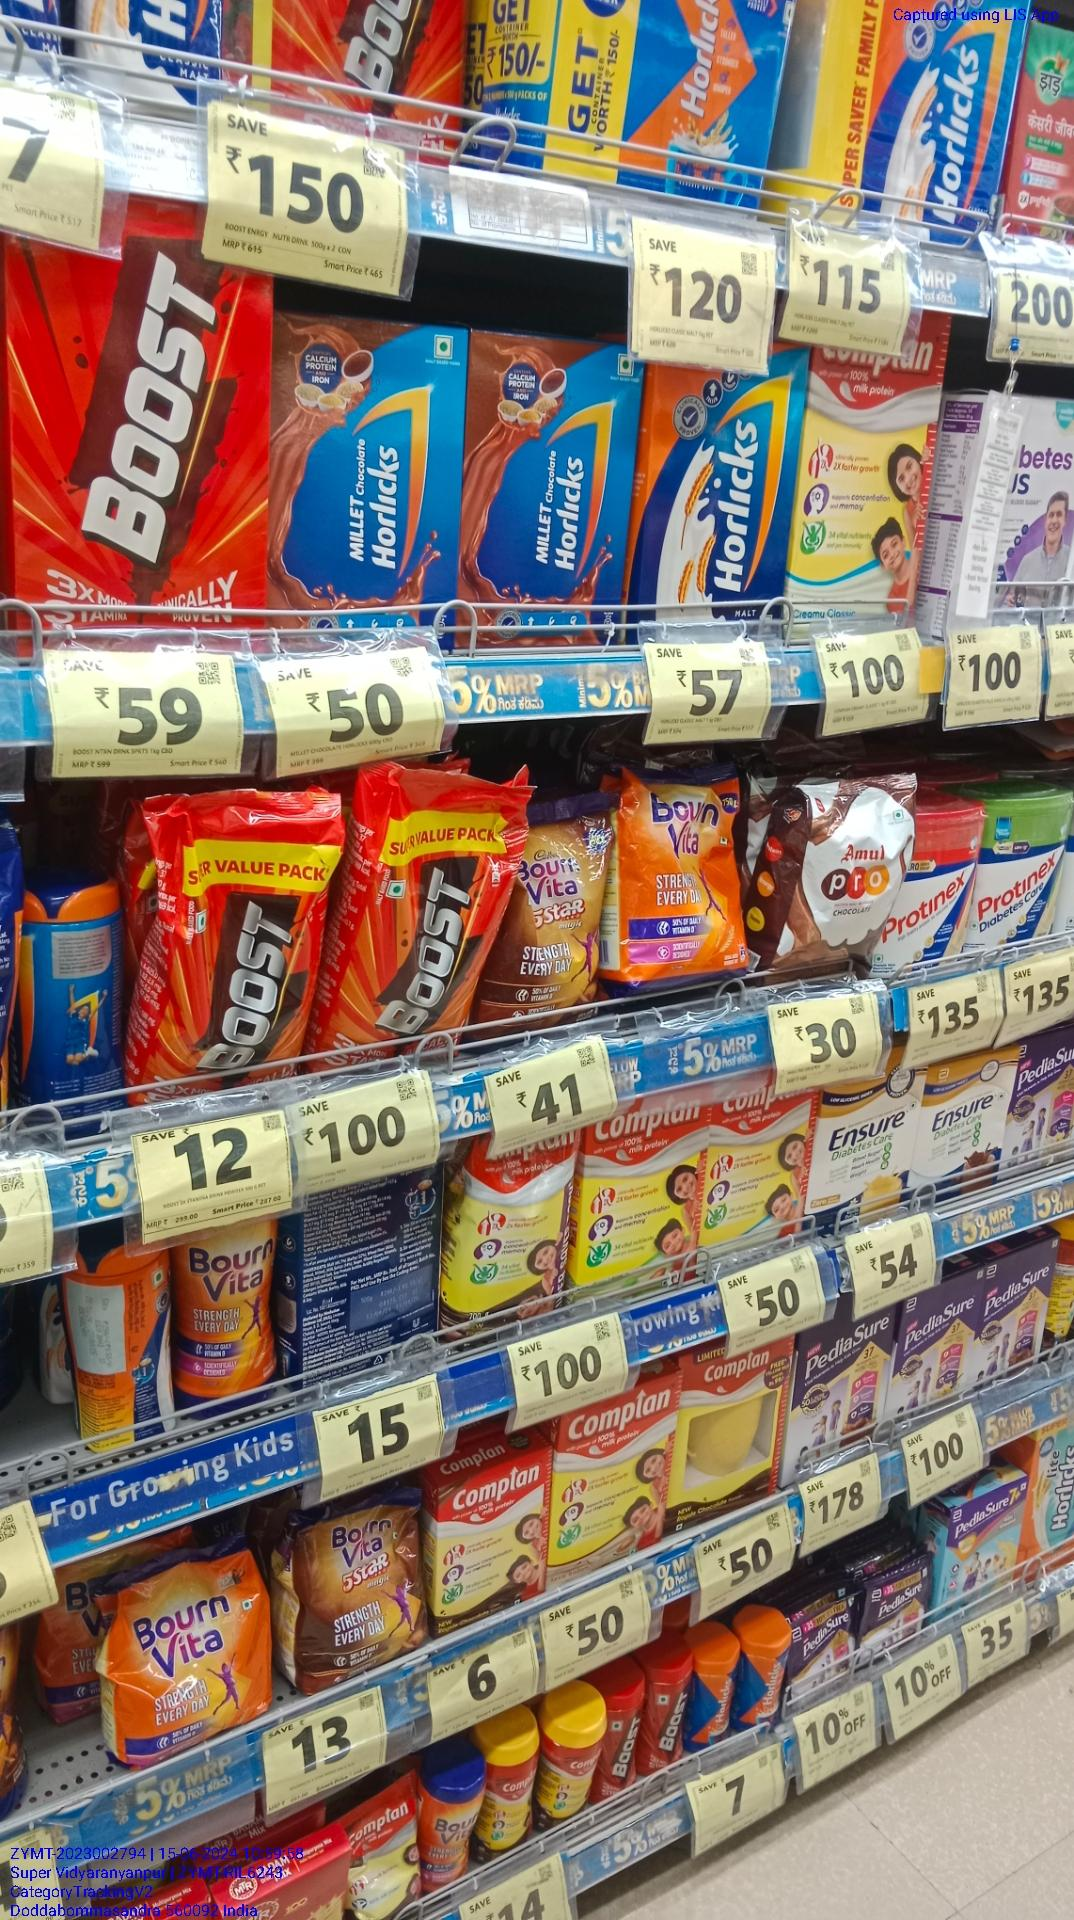BOURN_VITA_200_G_JAR: (424, 1770, 483, 1887)
BOURN_VITA_500_G_JAR: (174, 1234, 277, 1415)
BOURN_VITA_500_G_POUCH: (107, 1571, 273, 1738)
BOURN_VITA_750_G_POUCH: (614, 769, 745, 985)
BOURN_VITA_FIVE_STAR_MAGIC_500_G_POUCH: (286, 1503, 420, 1663)
BOURN_VITA_FIVE_STAR_MAGIC_750_G_POUCH: (487, 800, 606, 1034)
COMPLAN_CHOCOLATE_200_GMS_JAR: (544, 1705, 600, 1825), (487, 1735, 537, 1863)
COMPLAN_CHOCOLATE_500_GMS_PACK: (438, 1486, 545, 1596)
COMPLAN_CREAMY_CLASSIC_500_G_PACK: (711, 1104, 807, 1245)
COMPLAN_KESAR_BADAM_500_GMS_PACK: (584, 1124, 706, 1298), (549, 1411, 665, 1584)
COMPLAN_RC_POUCH_700_GMS_12: (450, 1160, 574, 1321)
HORLICK_CLASSIC_MALT_200_G_JAR: (689, 1655, 738, 1750), (742, 1633, 782, 1727)
HORLICK_CLASSIC_MALT_500_G_PACK: (639, 363, 792, 641)
PEDIASURE_CHOCOLATE_500_G_PACK: (792, 1327, 891, 1457)
